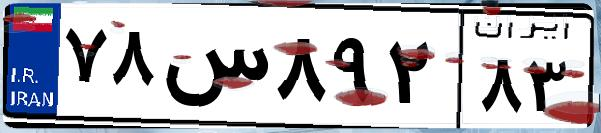2: (385, 28, 445, 110)
3: (525, 38, 570, 115)
7: (57, 26, 110, 100)
8: (270, 28, 330, 110), (475, 38, 525, 113), (110, 28, 158, 98)
9: (330, 28, 385, 110)
س: (158, 20, 270, 120)
